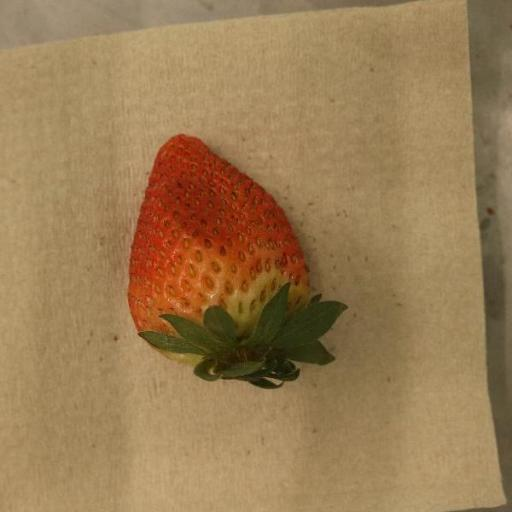Strawberry: (127, 134, 347, 391)
